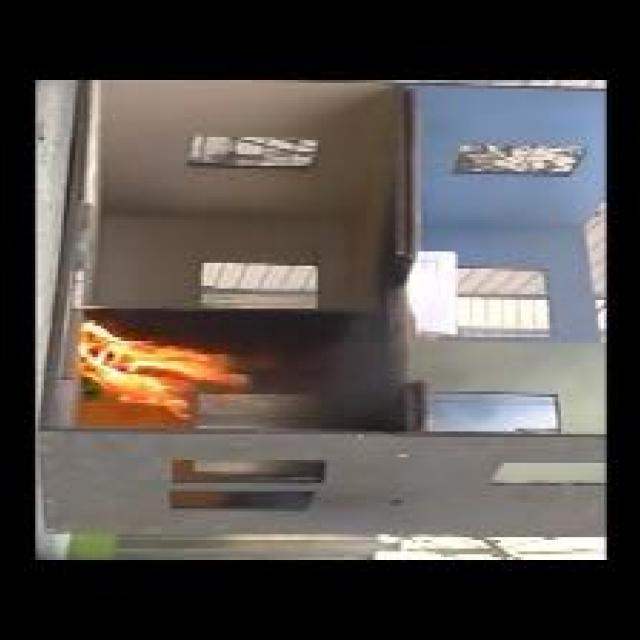Fire: (79, 320, 247, 417)
